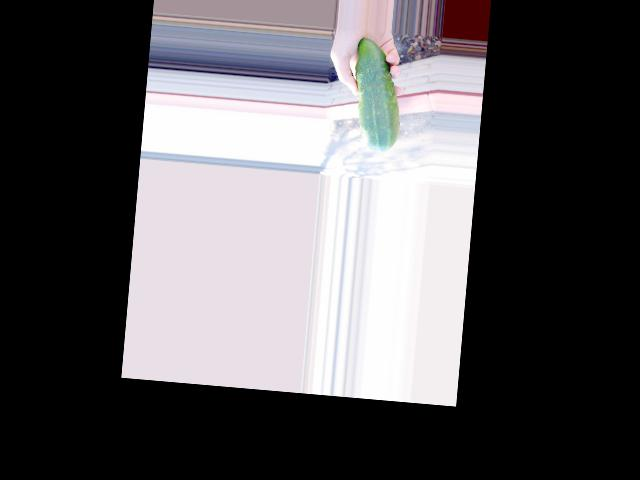cucumber: (349, 38, 407, 153)
